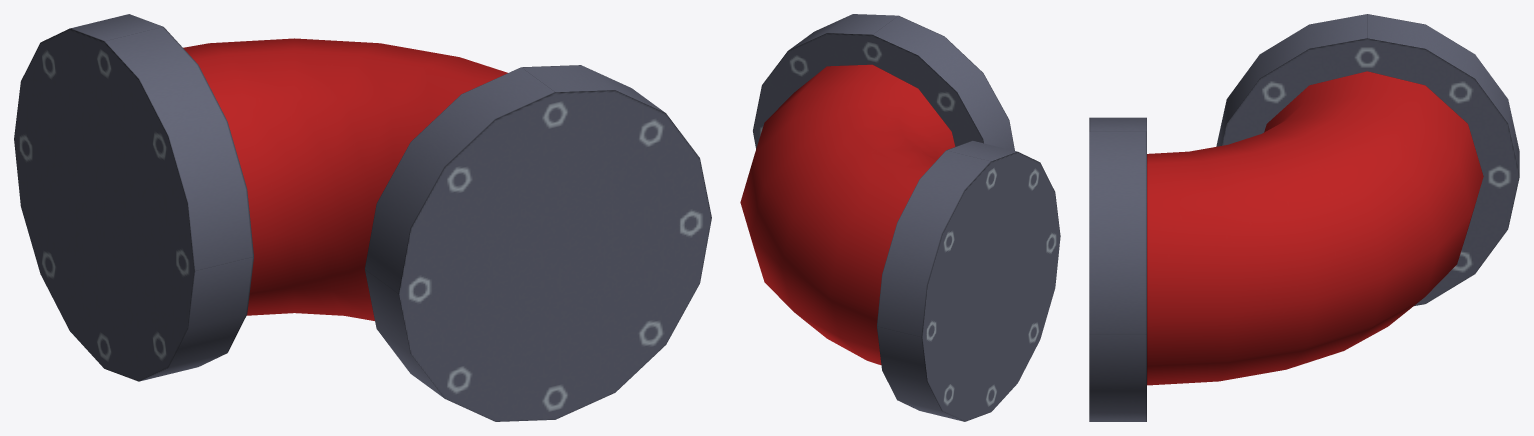
File: Pipe_Angle_01.FBX
The picture shows the model from 3 angles, left to right: view 1: azimuth 30°, elevation 25°; view 2: azimuth 150°, elevation 25°; view 3: azimuth 270°, elevation 25°; orthographic projection. The views are drawn at different scales.
Parts seen in each view (by area): view 1: Pipe_Angle_01; view 2: Pipe_Angle_01; view 3: Pipe_Angle_01.
Boxes of the visible parts, left/top/right/bottom form: Pipe_Angle_01: left=14, top=14, right=711, bottom=421; Pipe_Angle_01: left=740, top=14, right=1060, bottom=421; Pipe_Angle_01: left=1089, top=14, right=1519, bottom=421.
Bounding box in the file's own units: 1.86 × 1.32 × 1.86.
Materials: 2 (2 with a texture image).
